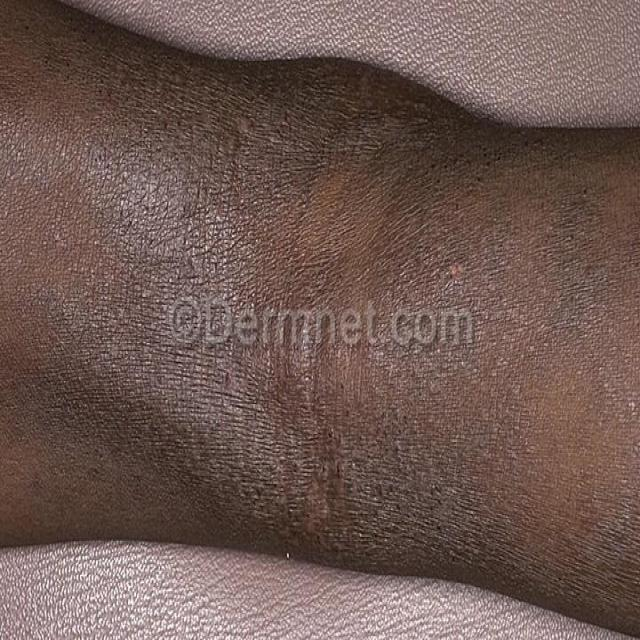liquenificacion 1: (15, 11, 640, 640)
liquenificacion 2: (15, 11, 640, 640)
